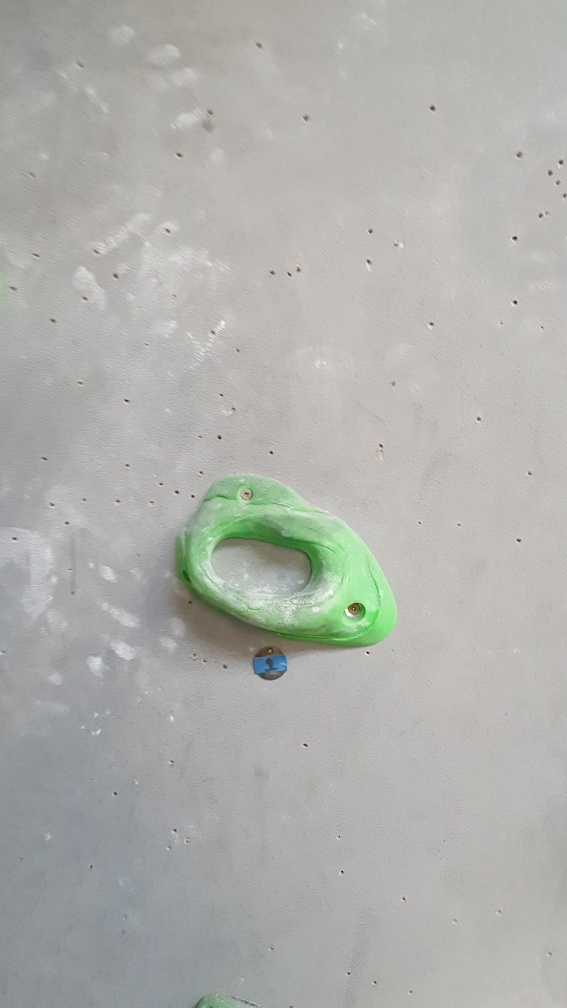Hand Start: (248, 642, 291, 681)
Pocket: (173, 468, 402, 651)
